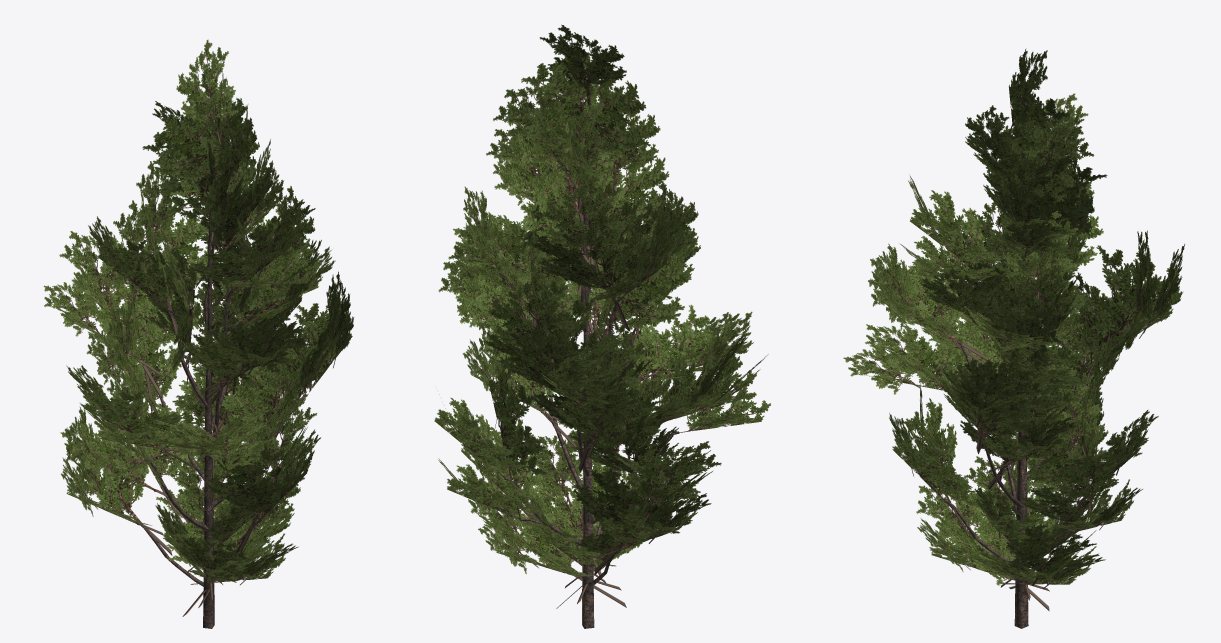
File: conifer_sapling.glb
3 views of the same model, side by side, from view 1: azimuth 30°, elevation 25°; view 2: azimuth 150°, elevation 25°; view 3: azimuth 270°, elevation 25° (orthographic). The views are drawn at different scales.
Visible parts, largest first — view 1: Object_16; view 2: Object_16; view 3: Object_16.
Boxes of the visible parts, <box> form: Object_16: <box>43,39,353,628</box>; Object_16: <box>434,24,770,628</box>; Object_16: <box>843,49,1184,628</box>.
Bounding box in the file's own units: 1.92 × 3.41 × 2.03.
2 materials, 2 textured.
